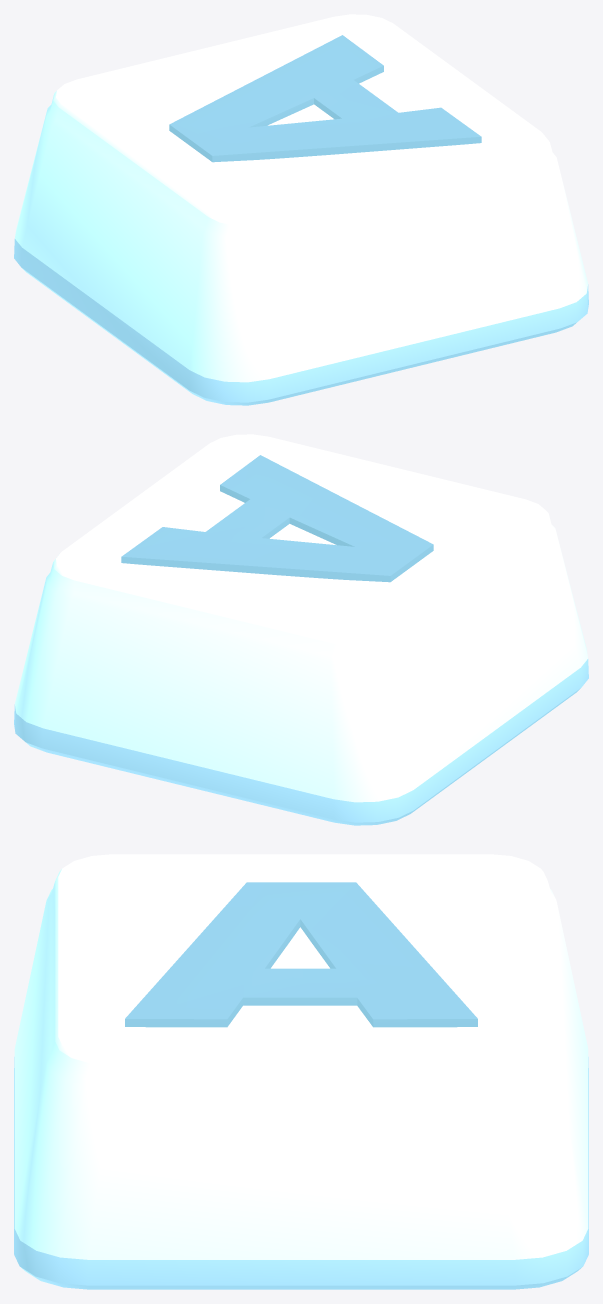
Rendered from props__Key_A.glb.
The picture shows the model from 3 angles, top to bottom: view 1: azimuth 30°, elevation 25°; view 2: azimuth 150°, elevation 25°; view 3: azimuth 270°, elevation 25°; orthographic projection. The views are drawn at different scales.
Parts seen in each view (by area): view 1: Key_A; view 2: Key_A; view 3: Key_A.
Part boxes in pixels (x1,y1,x2,y2): Key_A: [14, 14, 588, 405]; Key_A: [14, 434, 588, 825]; Key_A: [14, 854, 588, 1289].
Bounding box in the file's own units: 3.9 × 1.65 × 3.9.
